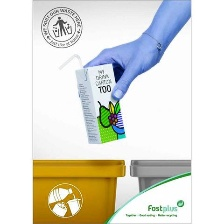bottle: (45, 185, 74, 205)
can: (49, 201, 67, 219)
carton: (69, 62, 133, 145), (65, 197, 85, 216)
drinking_straw: (52, 52, 86, 72)
